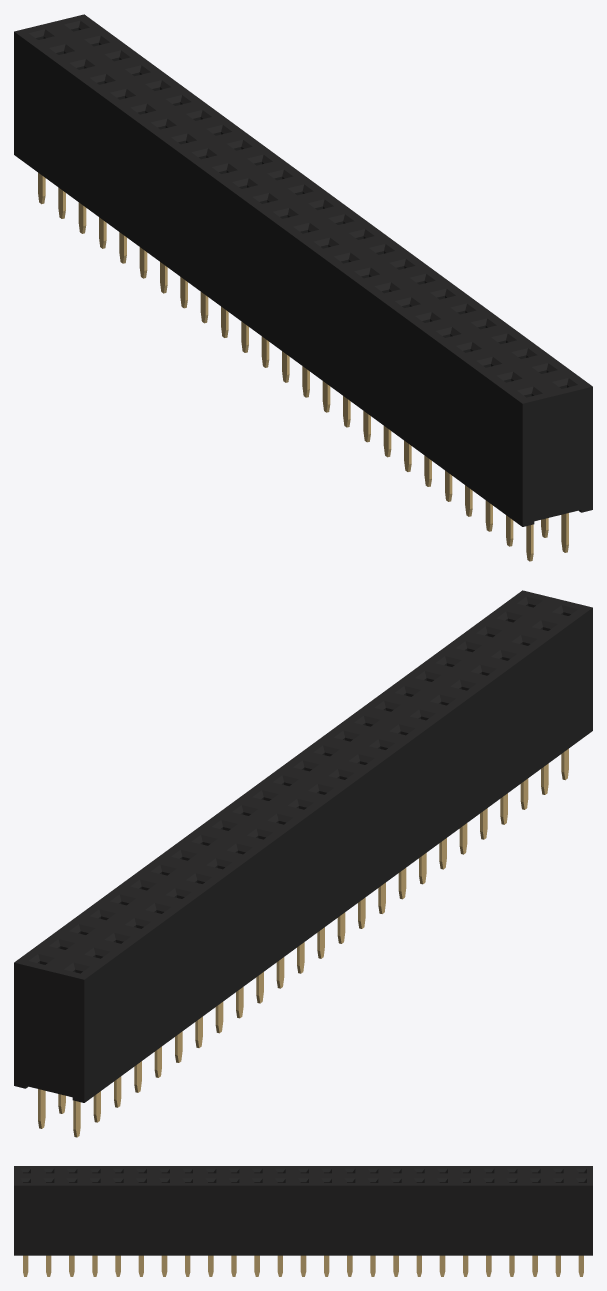
The model's file is kc-pinsocket_2x25_p2.54mm_vertical.glb.
The picture shows the model from 3 angles, top to bottom: view 1: azimuth 30°, elevation 25°; view 2: azimuth 150°, elevation 25°; view 3: azimuth 270°, elevation 25°; orthographic projection. The views are drawn at different scales.
Visible parts, largest first — view 1: 0_0_0_0, 0.75_0.5_0.25_0.9; view 2: 0_0_0_0, 0.75_0.5_0.25_0.9; view 3: 0_0_0_0, 0.75_0.5_0.25_0.9.
Boxes of the visible parts, x1,y1,x2,y2 form: 0_0_0_0: [14, 14, 592, 526]; 0.75_0.5_0.25_0.9: [38, 172, 568, 561]; 0_0_0_0: [14, 590, 592, 1102]; 0.75_0.5_0.25_0.9: [38, 748, 568, 1137]; 0_0_0_0: [14, 1166, 592, 1255]; 0.75_0.5_0.25_0.9: [23, 1255, 583, 1276].
Size of the model in its own units: 0.5077 by 1.16 by 6.35.
